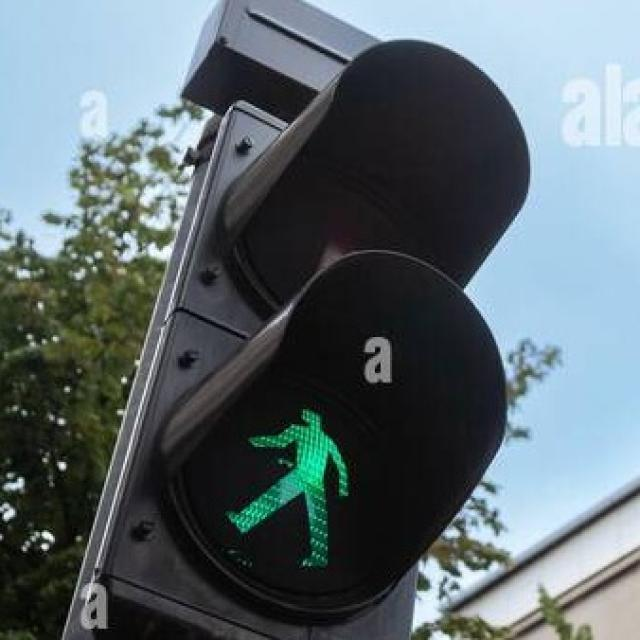geen-crossing: (238, 382, 354, 574)
